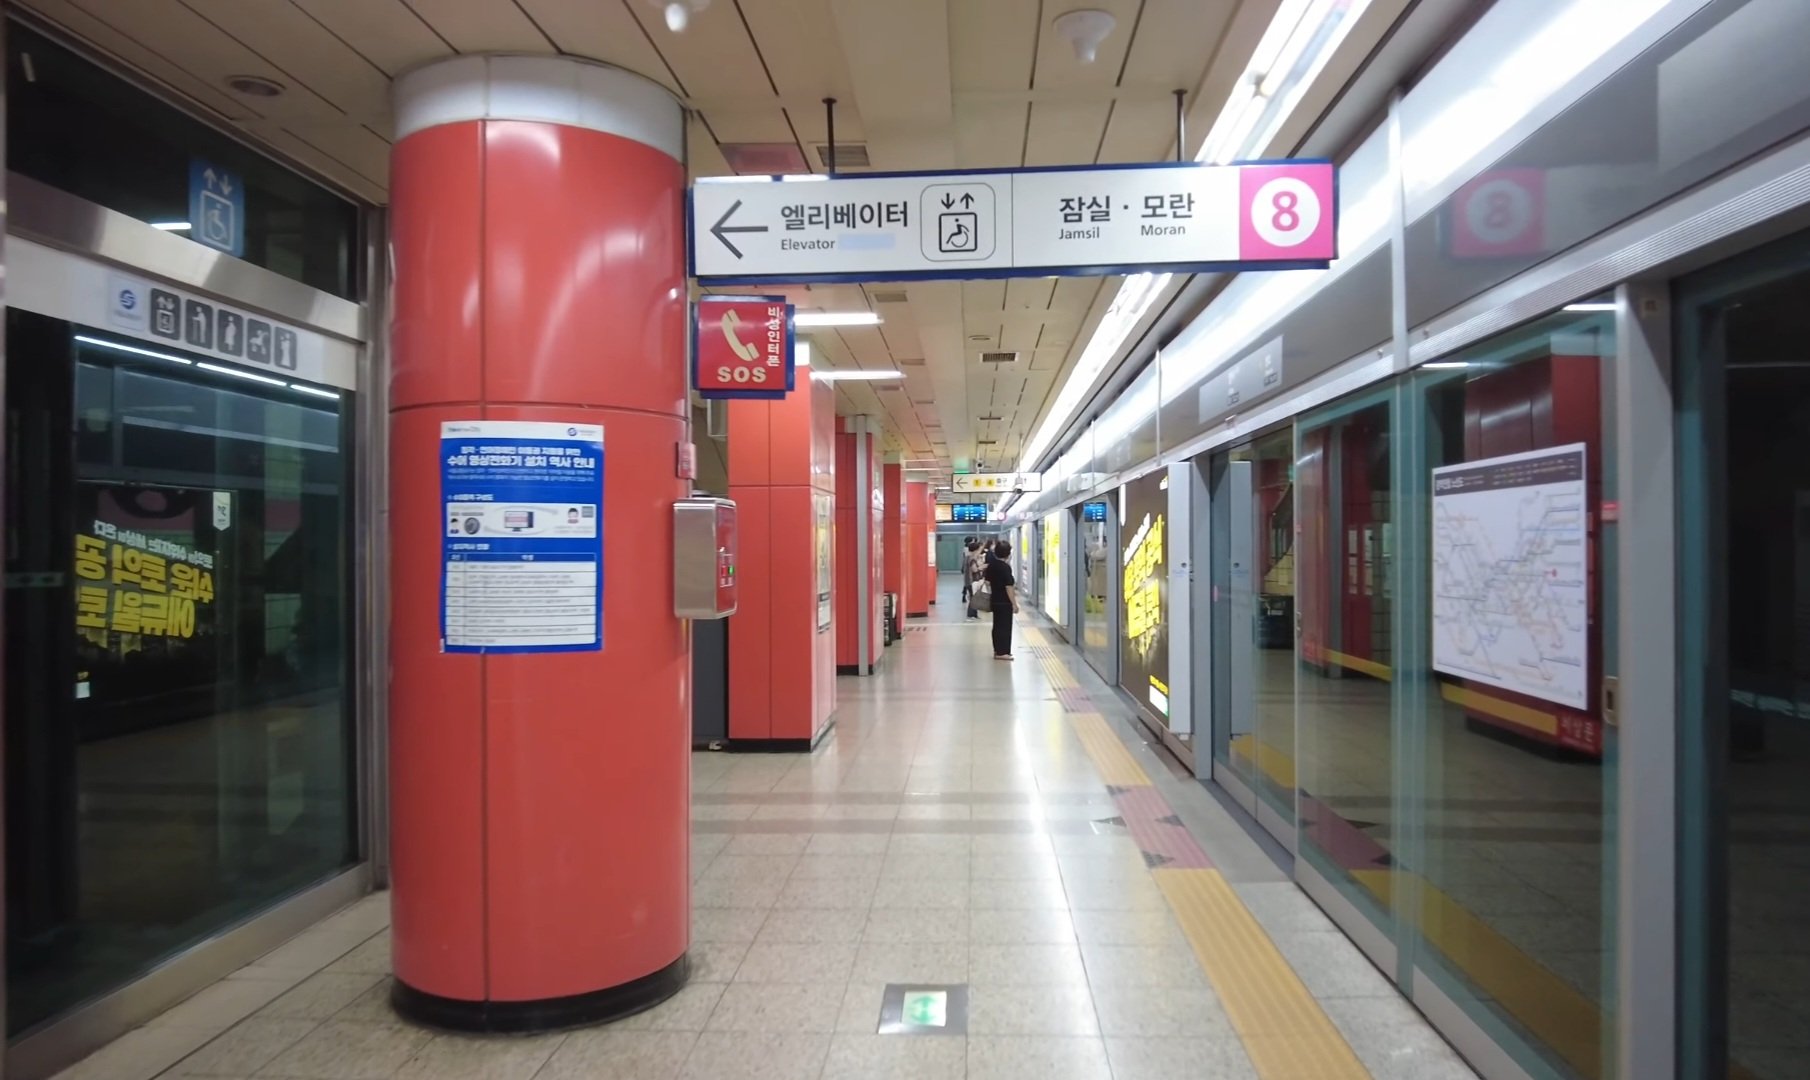signBoard: (683, 150, 1349, 282)
